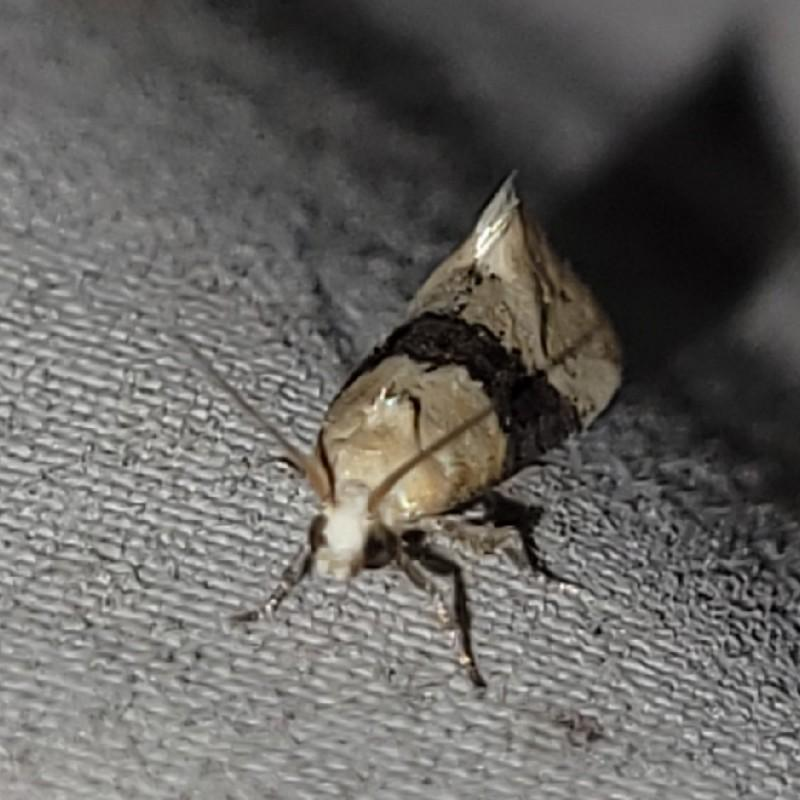Eupoecilia Ambiguella: (168, 166, 629, 692)
